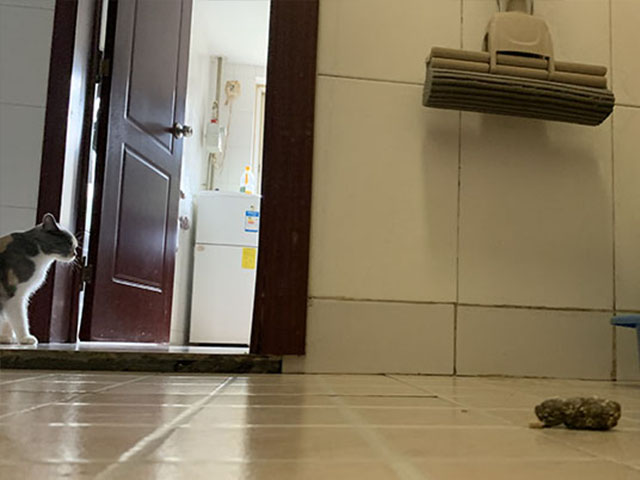feces: (526, 393, 622, 432)
